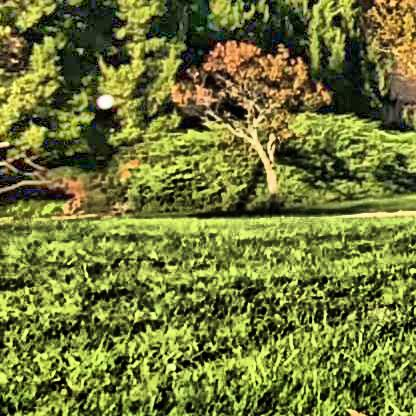golfball: (95, 91, 112, 106)
